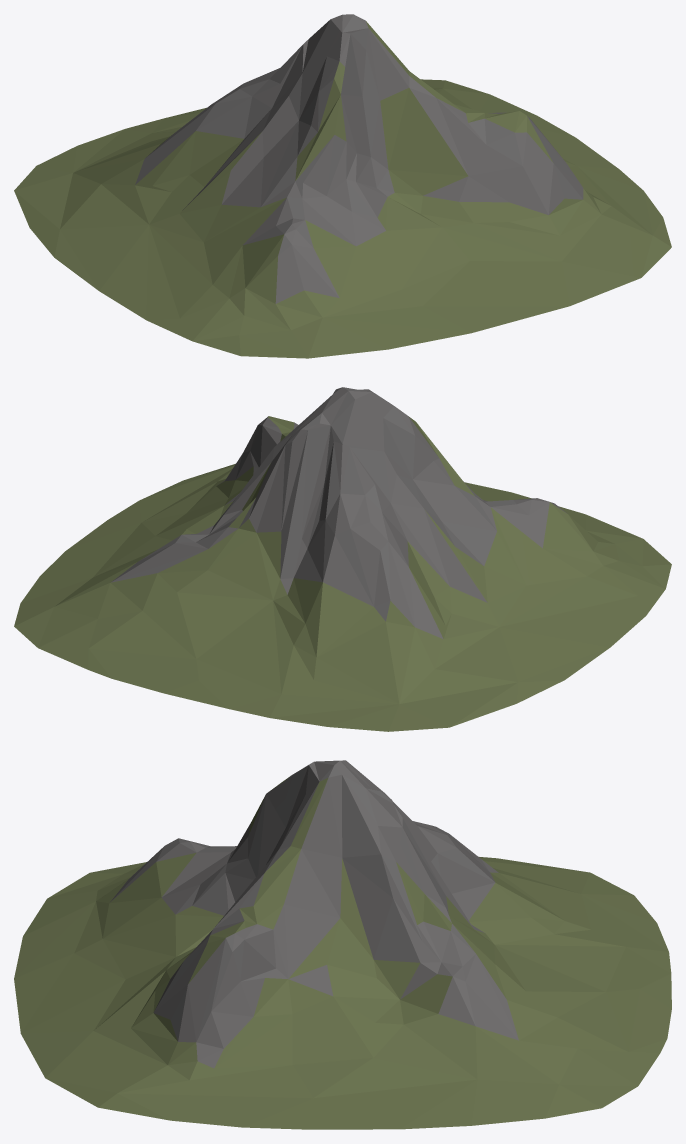
Rendered from SM_Generic_Mountains_Grass_02.glb.
3 views of the same model, one above another, from view 1: azimuth 30°, elevation 25°; view 2: azimuth 150°, elevation 25°; view 3: azimuth 270°, elevation 25° (orthographic). The views are drawn at different scales.
Visible parts, largest first — view 1: SM_Generic_Mountains_Grass_02; view 2: SM_Generic_Mountains_Grass_02; view 3: SM_Generic_Mountains_Grass_02.
Part boxes in pixels (x1,y1,x2,y2): SM_Generic_Mountains_Grass_02: (14,14,671,358); SM_Generic_Mountains_Grass_02: (14,387,671,731); SM_Generic_Mountains_Grass_02: (14,760,671,1129).
Bounding box in the file's own units: 14.49 × 5.54 × 14.48.
Materials: 1 (1 with a texture image).
